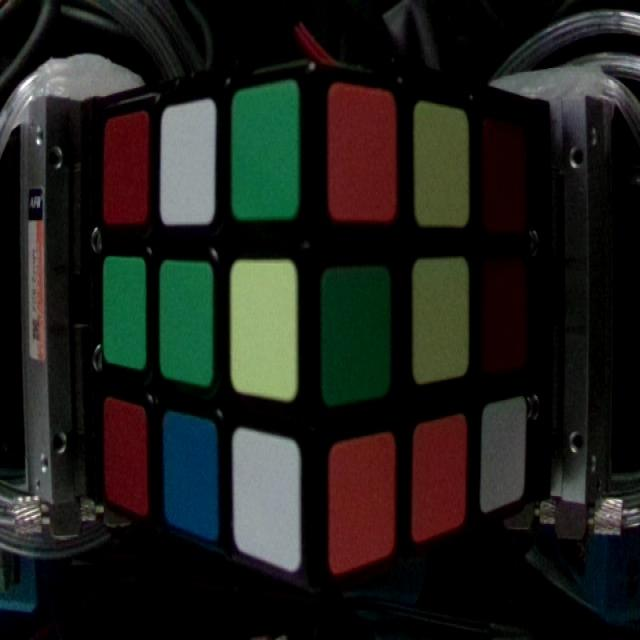b: (164, 415, 219, 532)
g: (231, 86, 299, 216), (322, 274, 387, 397), (160, 268, 213, 378), (100, 261, 149, 364)
o: (331, 82, 394, 216), (332, 438, 396, 569), (415, 419, 467, 532)
r: (104, 399, 150, 506), (482, 120, 524, 236), (103, 110, 147, 218), (487, 266, 526, 367)
w: (234, 430, 298, 568), (159, 103, 218, 216), (480, 395, 525, 502)
y: (230, 262, 296, 391), (412, 102, 471, 221), (414, 260, 466, 372)
